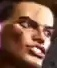kevin: (3, 0, 53, 67)
